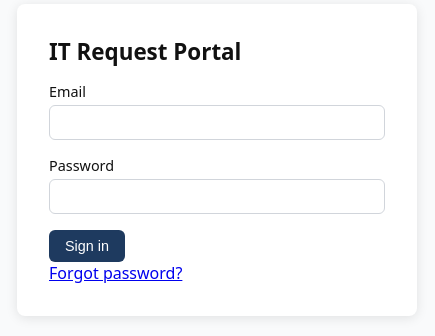
Test: LoginPage › disables submit button while loading
In the field labelled "Email": (217, 122) [49,105,385,140], type "a@b.com"
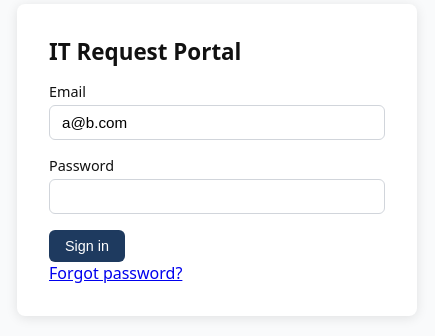
In the password field labelled "Password": (217, 196) [49,179,385,214], type "pw"
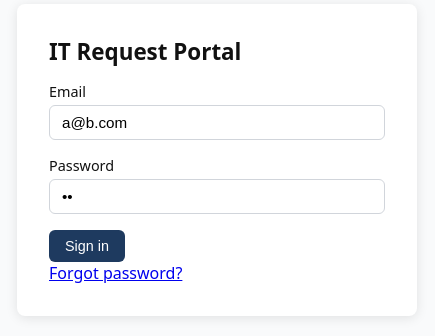
Click the button "Sign in": (87, 246) [49,230,125,262]
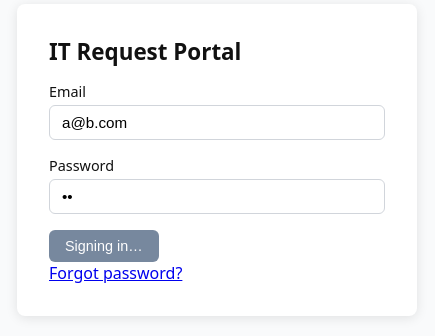
Expected: the button "Signing in…" is disabled, [49,230,159,262]
